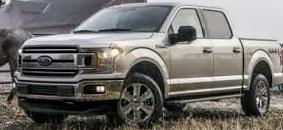Trucks: (15, 5, 283, 125)
